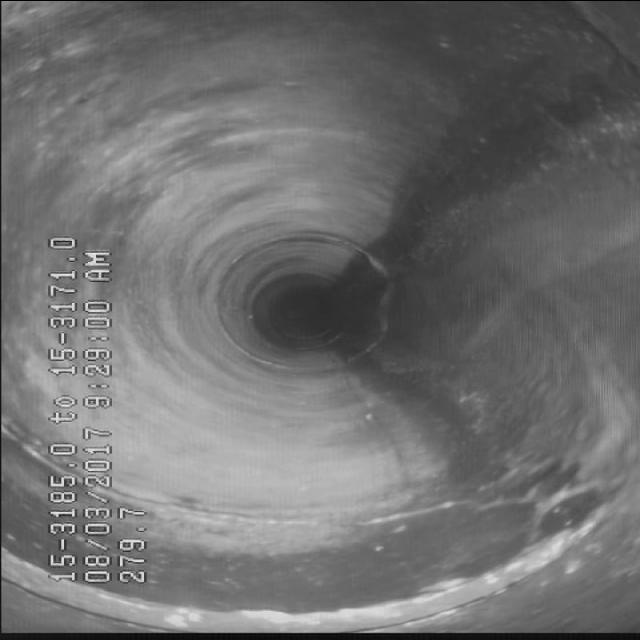Crack: (169, 452, 470, 540)
